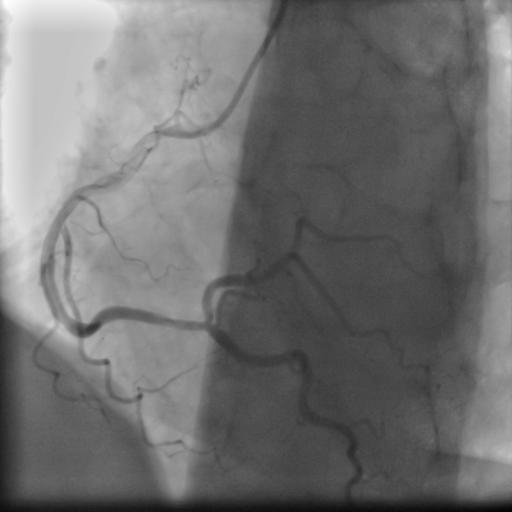Stenosis: (152, 307, 204, 336)
